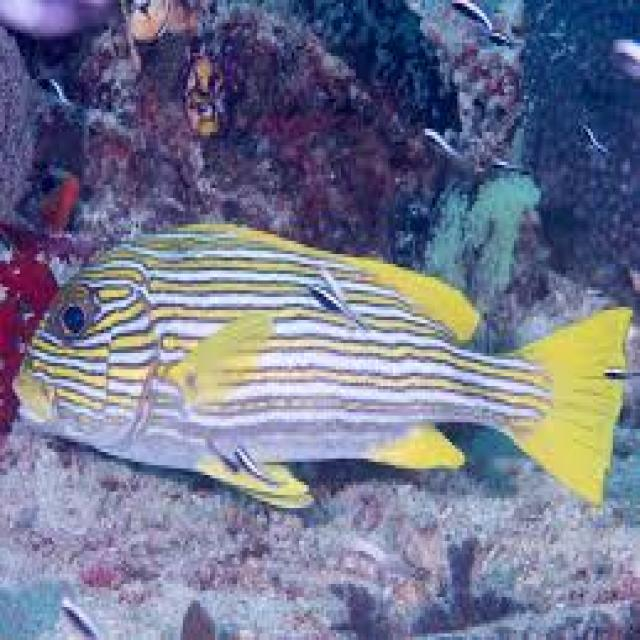RibbonedSweetlips: (8, 214, 632, 512)
